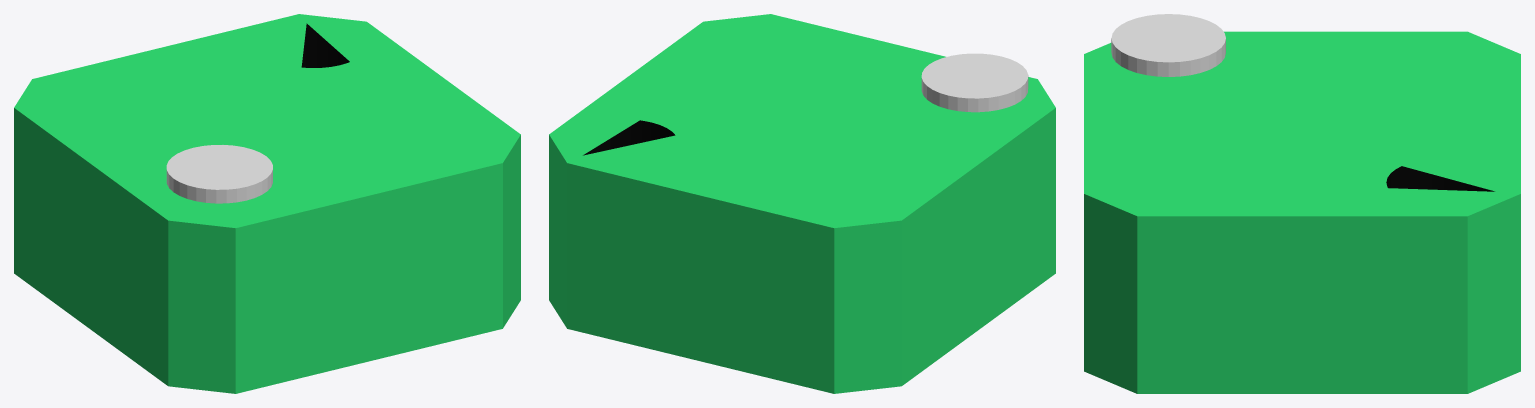
Rendered from LUBANG TIKUS.fbx.
3 views of the same model, side by side, from view 1: azimuth 30°, elevation 25°; view 2: azimuth 150°, elevation 25°; view 3: azimuth 270°, elevation 25° (orthographic). The views are drawn at different scales.
Parts seen in each view (by area): view 1: Cube, Cylinder; view 2: Cube, Cylinder; view 3: Cube, Cylinder.
Part boxes in pixels (left/top/right/bottom): Cube: left=14, top=14, right=520, bottom=393; Cylinder: left=166, top=145, right=272, bottom=203; Cube: left=549, top=14, right=1055, bottom=393; Cylinder: left=921, top=53, right=1028, bottom=112; Cube: left=1084, top=31, right=1520, bottom=393; Cylinder: left=1111, top=14, right=1225, bottom=76.
Bounding box in the file's own units: 565 × 294 × 565.
